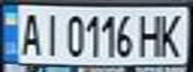0: (63, 10, 84, 57)
1: (81, 11, 100, 57), (100, 11, 118, 58)
6: (115, 11, 139, 58)
A: (15, 9, 45, 57)
H: (136, 10, 166, 58)
I: (39, 9, 63, 57)
K: (154, 9, 190, 57)
